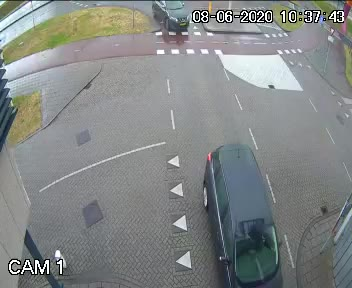car: (192, 139, 298, 288), (148, 0, 199, 41)
